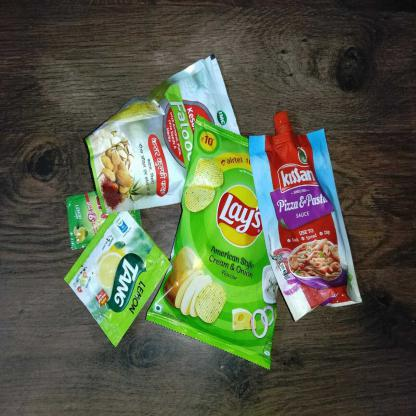cream_and_onion: (173, 112, 276, 370)
